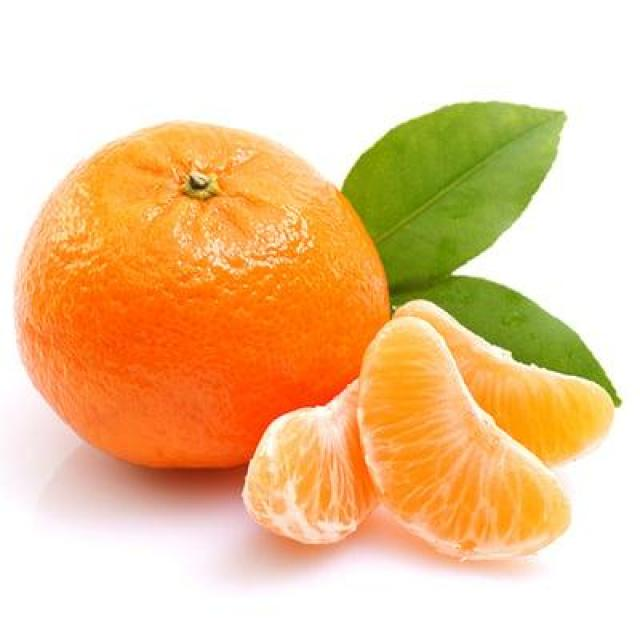10_tangerine: (16, 116, 400, 492), (356, 321, 579, 570), (240, 338, 396, 552)
